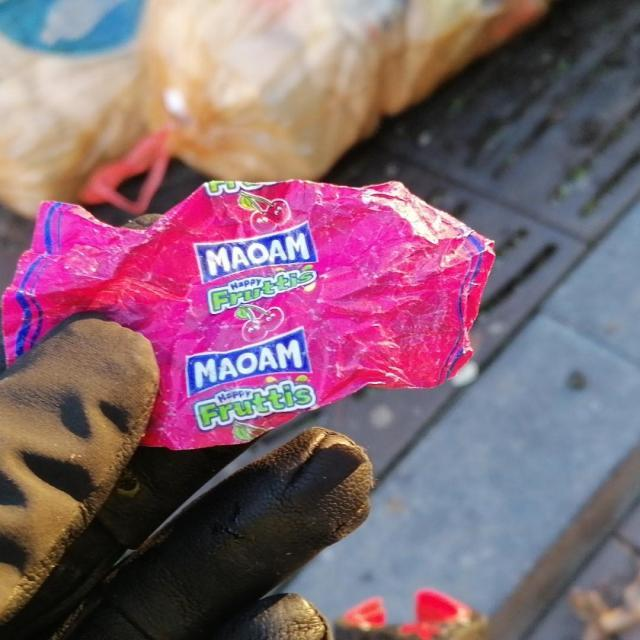Plastic: (1, 176, 500, 454)
